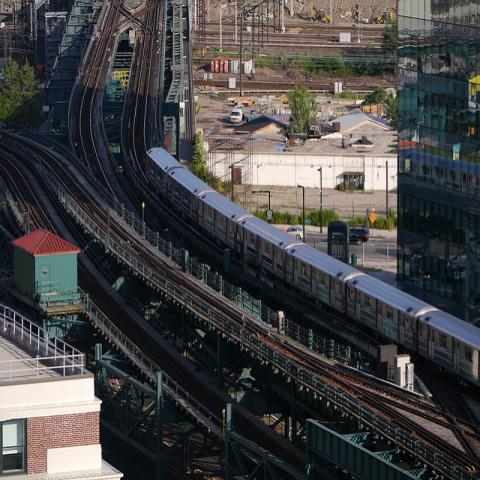car: (349, 228, 370, 246), (287, 226, 303, 241), (230, 108, 243, 124)
truck: (230, 108, 242, 123)
